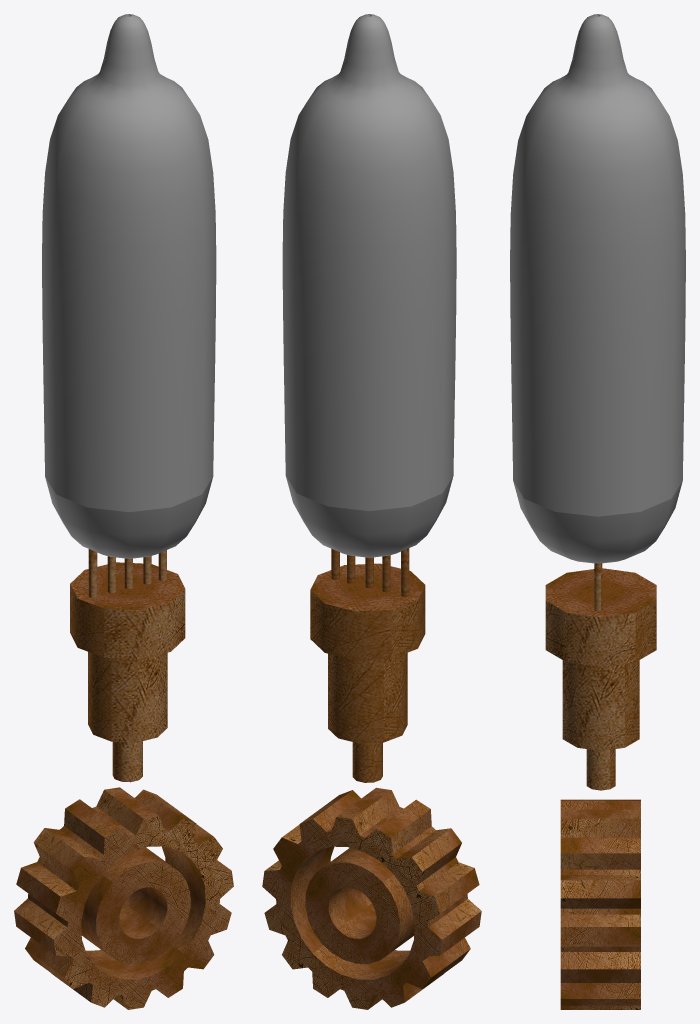
Rendered from Exclamation.FBX.
3 views of the same model, side by side, from view 1: azimuth 30°, elevation 25°; view 2: azimuth 150°, elevation 25°; view 3: azimuth 270°, elevation 25° (orthographic).
Visible parts, largest first — view 1: Lamp009, Cogwheel_404, Tube_666, Tube_651, Tube_660; view 2: Lamp009, Cogwheel_404, Tube_666, Tube_651, Tube_660; view 3: Lamp009, Cogwheel_404, Tube_666, Tube_651, Tube_660, Tube_656.
Part boxes in pixels (left/top/right/bottom): Lamp009: left=42, top=14, right=216, bottom=558; Cogwheel_404: left=14, top=787, right=233, bottom=1009; Tube_666: left=70, top=562, right=185, bottom=659; Tube_651: left=88, top=652, right=167, bottom=742; Tube_660: left=112, top=741, right=142, bottom=782; Lamp009: left=282, top=14, right=456, bottom=557; Cogwheel_404: left=262, top=787, right=481, bottom=1009; Tube_666: left=310, top=563, right=425, bottom=660; Tube_651: left=328, top=653, right=407, bottom=743; Tube_660: left=352, top=742, right=382, bottom=782; Lamp009: left=510, top=14, right=685, bottom=563; Cogwheel_404: left=560, top=799, right=640, bottom=1009; Tube_666: left=545, top=568, right=656, bottom=666; Tube_651: left=562, top=660, right=639, bottom=750; Tube_660: left=586, top=749, right=615, bottom=790; Tube_656: left=594, top=563, right=602, bottom=610.
Bounding box in the file's own units: 19.1 × 98.98 × 16.01.
3 materials, 1 textured.
